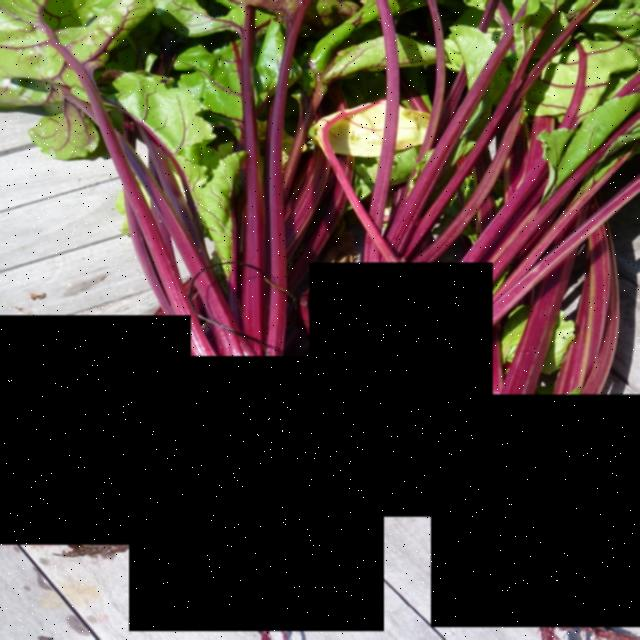Beetroot: (130, 357, 385, 632), (431, 394, 640, 628), (310, 263, 492, 518), (0, 315, 191, 546)
